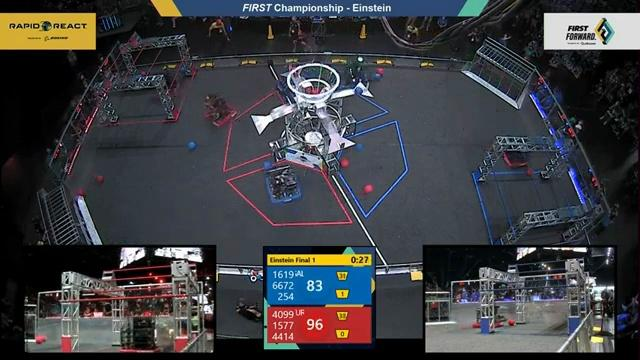robot: (259, 157, 304, 210), (202, 86, 243, 131), (117, 315, 160, 353), (335, 51, 372, 92), (499, 137, 535, 169), (472, 304, 505, 329)
